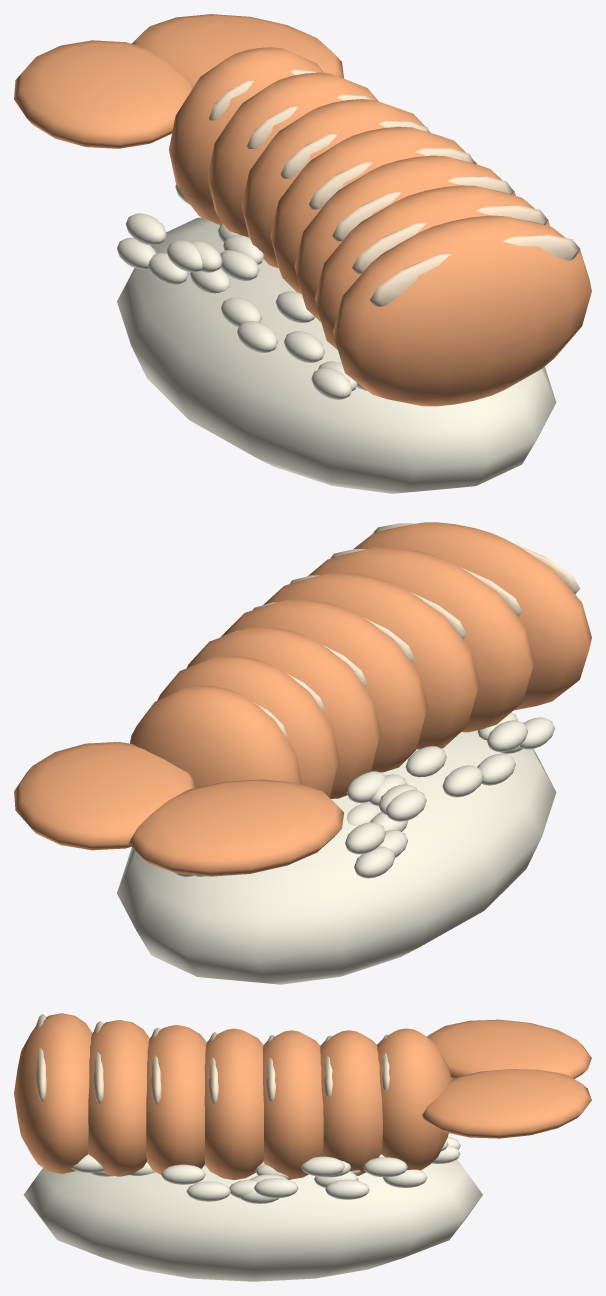
The model's file is Food1.fbx.
The picture shows the model from 3 angles, top to bottom: view 1: azimuth 30°, elevation 25°; view 2: azimuth 150°, elevation 25°; view 3: azimuth 270°, elevation 25°; orthographic projection. The views are drawn at different scales.
Parts seen in each view (by area): view 1: Food1; view 2: Food1; view 3: Food1.
Part boxes in pixels (box(x1,y1,x2,y2)): Food1: box(14, 14, 591, 493); Food1: box(14, 522, 591, 984); Food1: box(14, 1013, 591, 1281).
Bounding box in the file's own units: 8.8 × 8 × 18.11.
